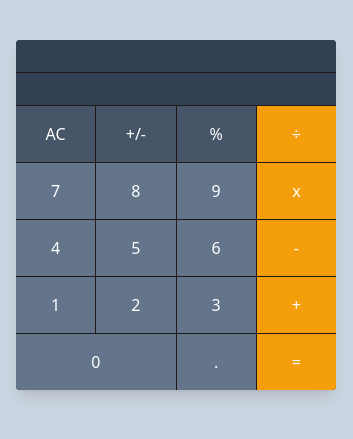
Test: App › Calculations return the expected result
Click the button with test id "1".
click(56, 305)  # box [16,277,95,333]
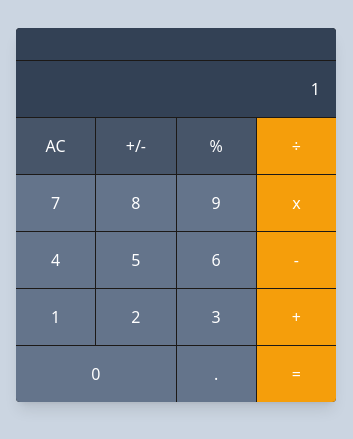
Click the button with test id "+".
click(296, 317)  # box [257,289,336,345]
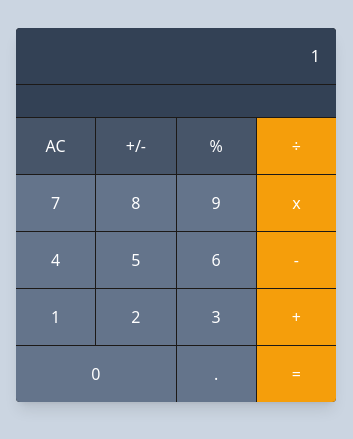
Click the button with test id "1".
click(56, 317)  # box [16,289,95,345]
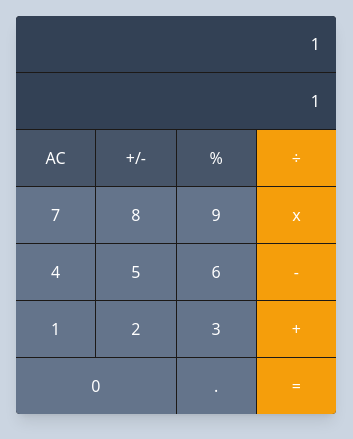
Click the button with test id "=".
click(296, 386)  # box [257,358,336,414]
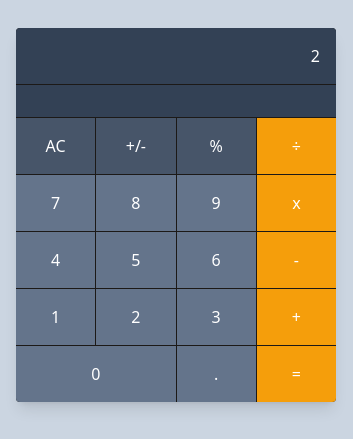
Expected: the text with test id "result" reads "2", [311,45,320,67]
